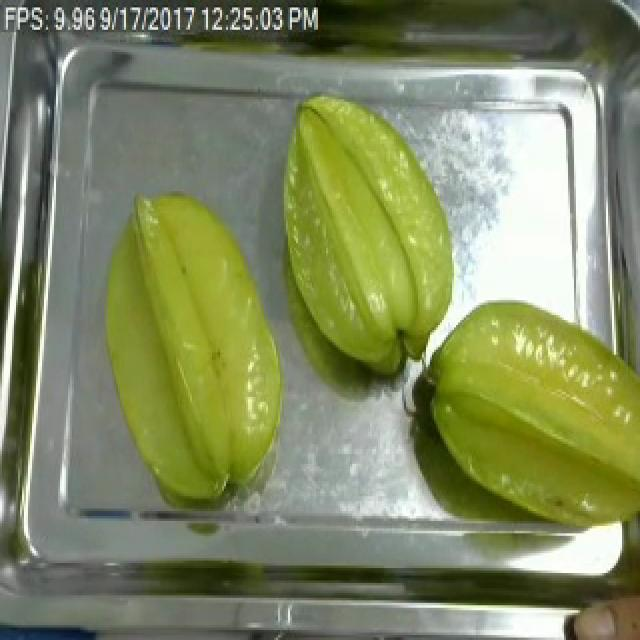fruit: (86, 179, 300, 516), (268, 82, 462, 387), (416, 295, 640, 543)
